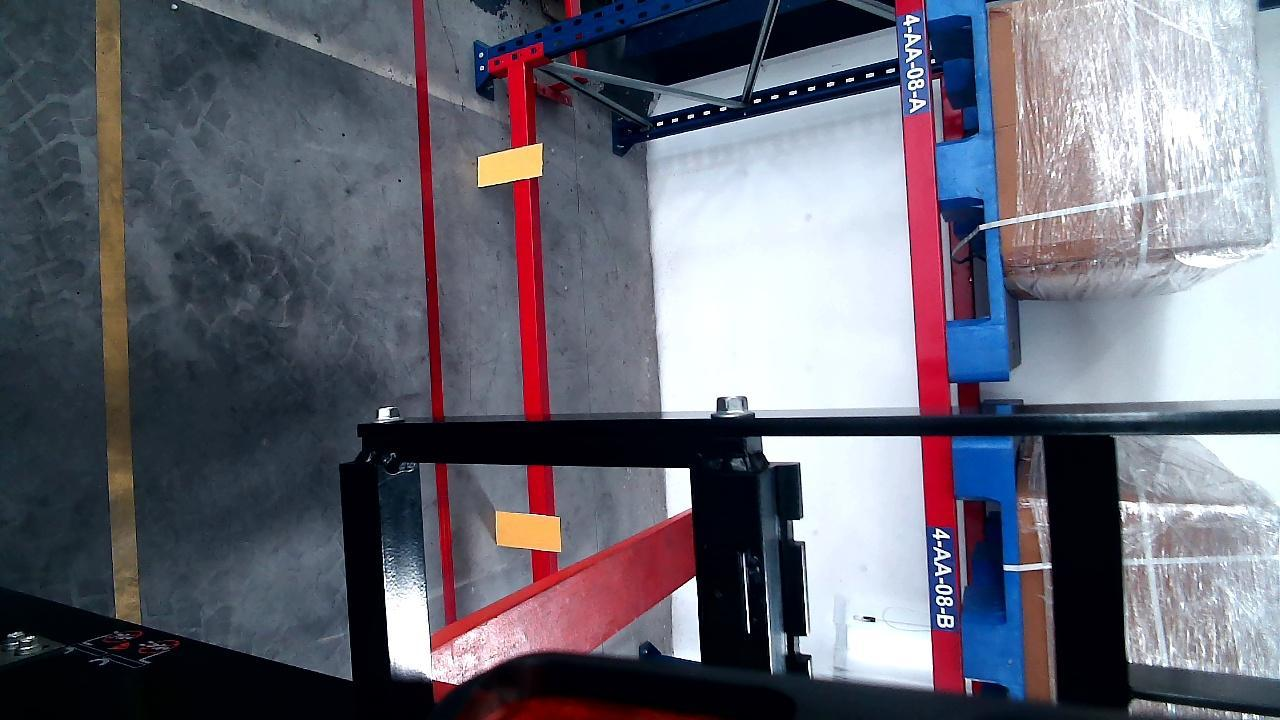red_line: (414, 0, 456, 621)
yellow_line: (95, 0, 140, 625)
